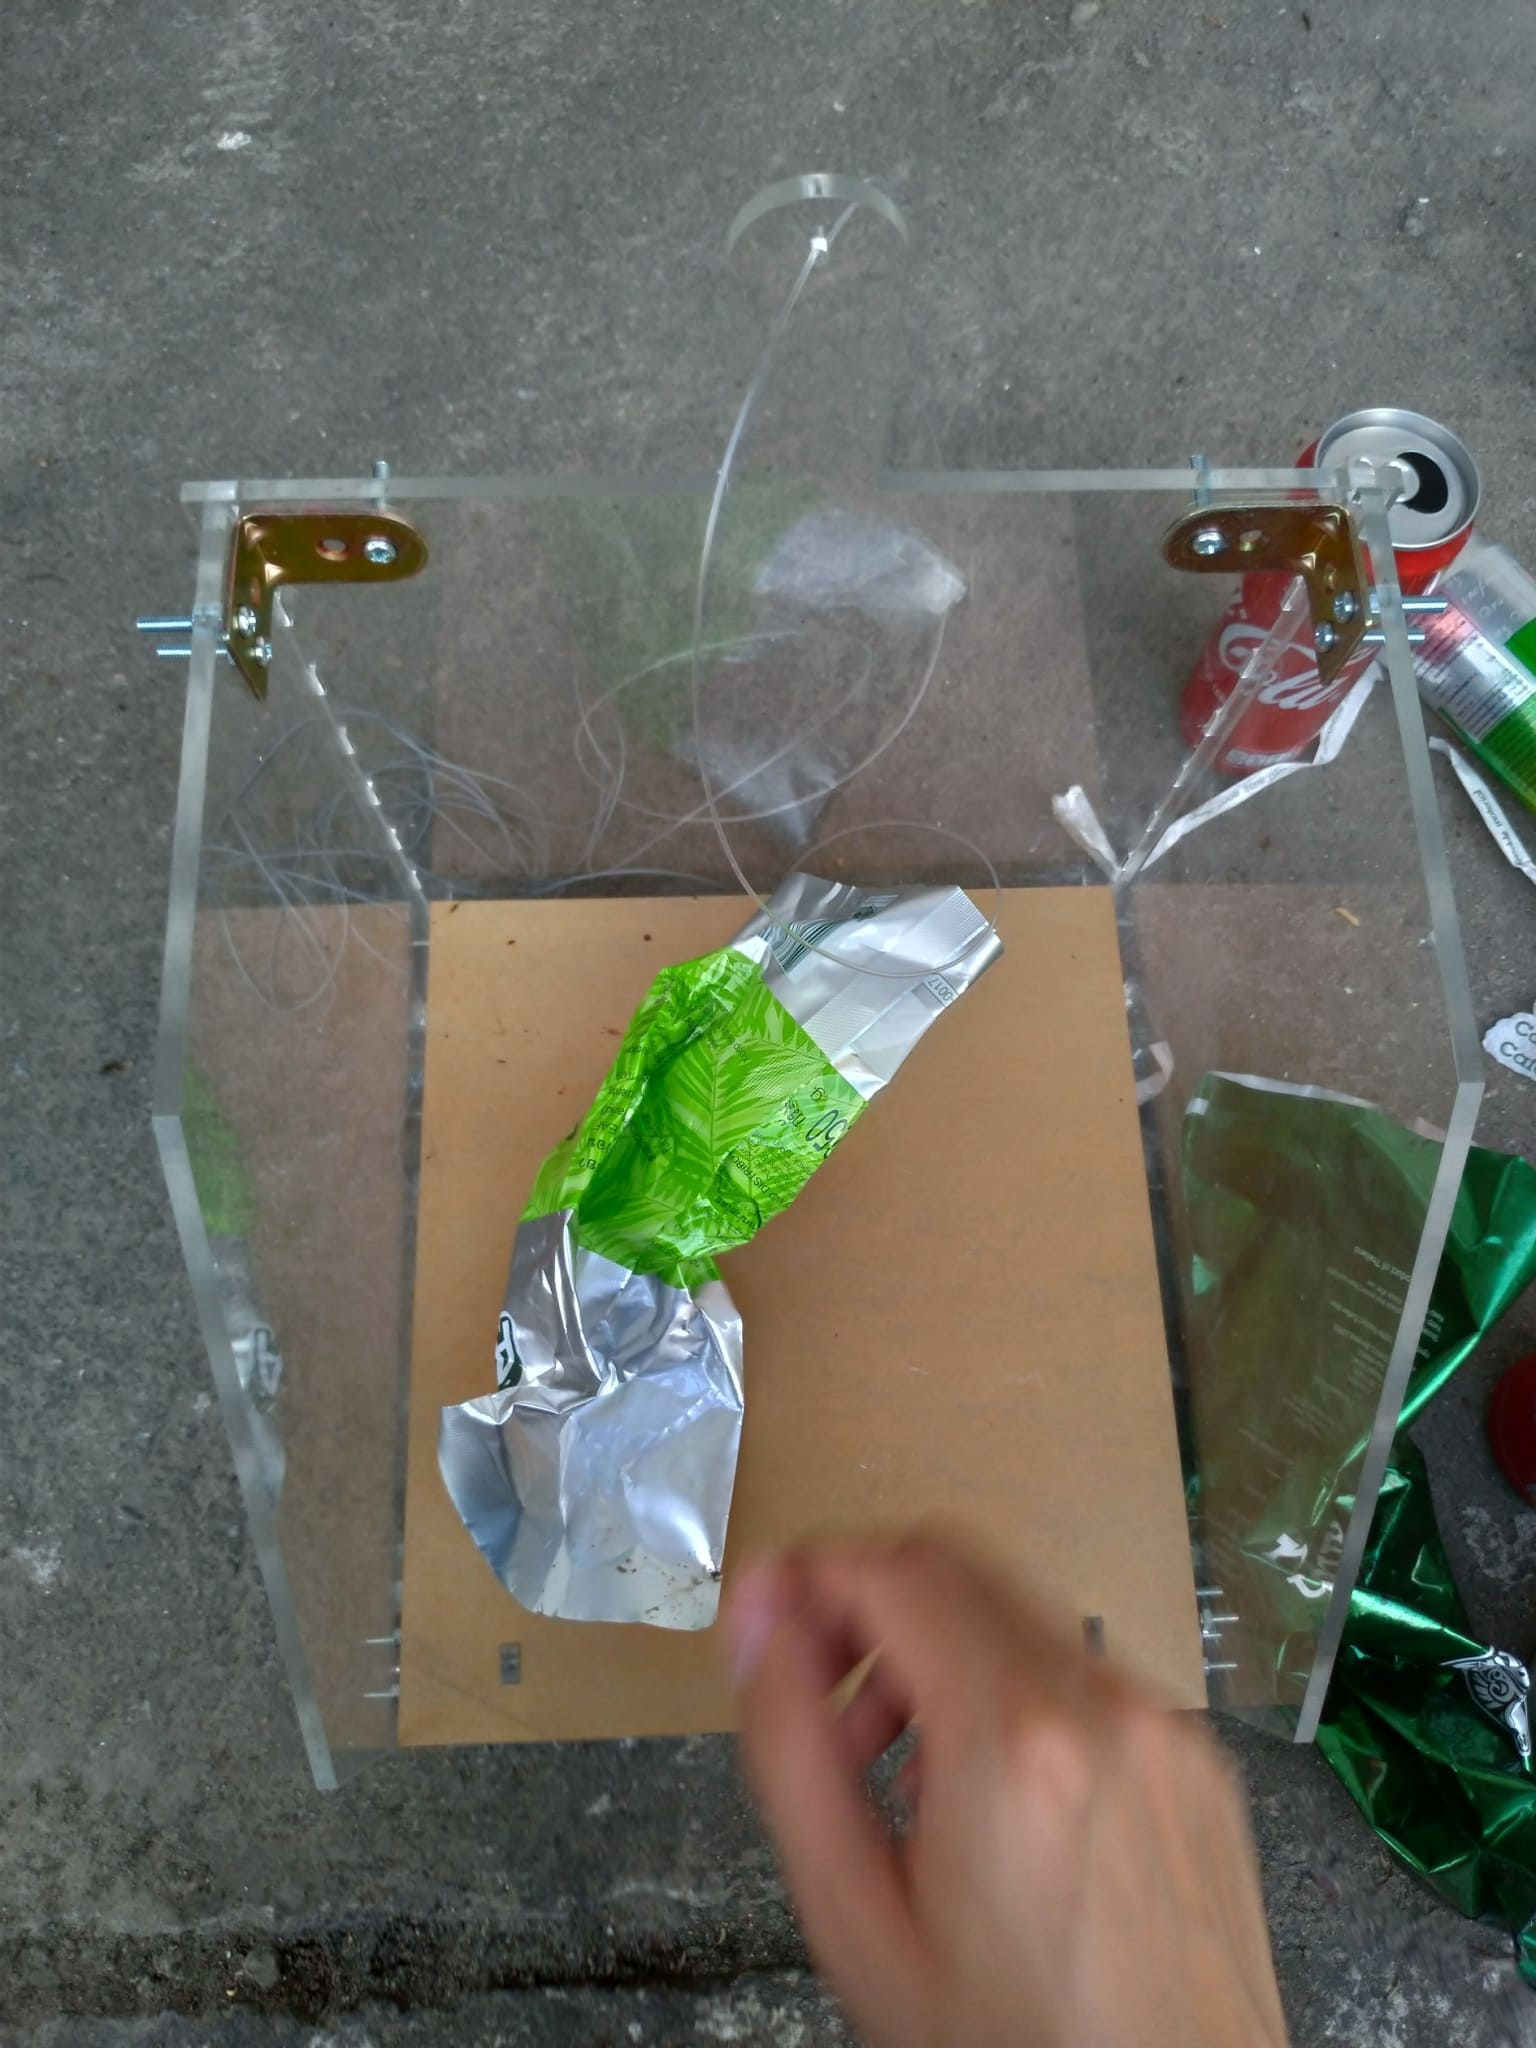AlCan: (1187, 411, 1475, 769), (1388, 527, 1534, 789)
Others: (429, 864, 1007, 1627), (1163, 1077, 1530, 1914)
